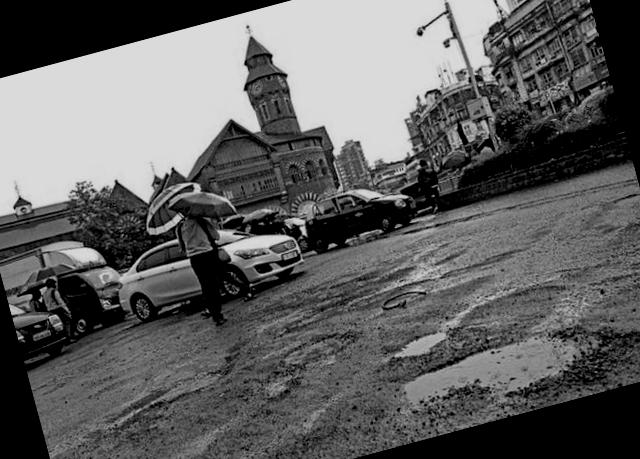Pothole: (368, 287, 613, 440), (246, 319, 362, 404), (377, 316, 452, 370)
